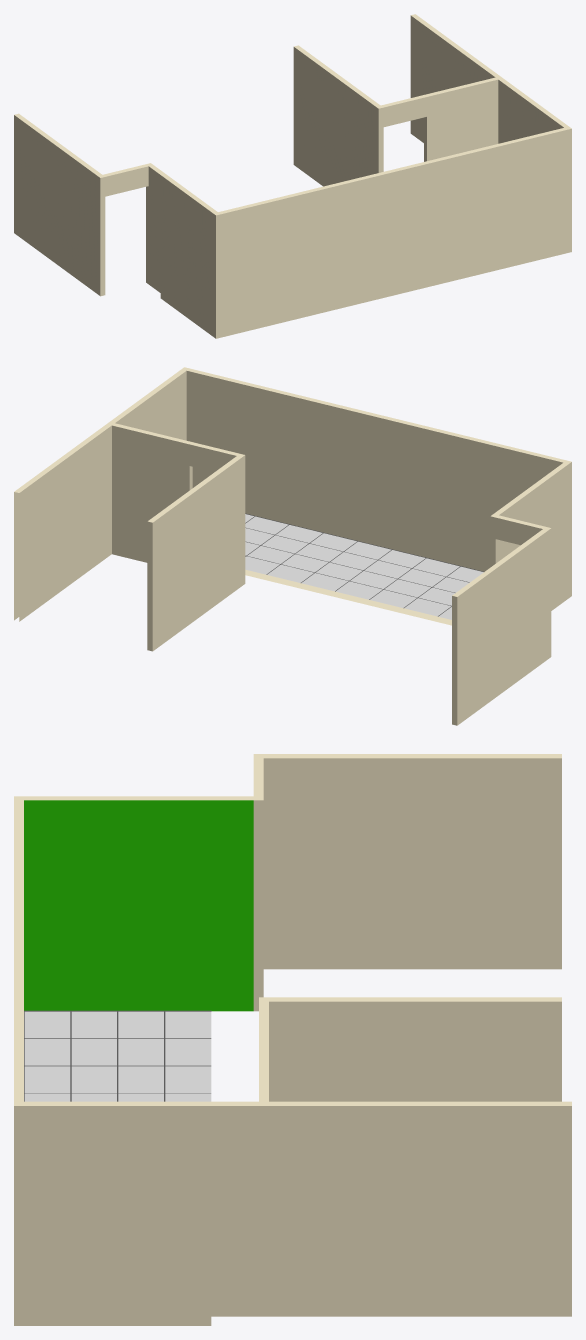
Rendered from Salle_B.fbx.
3 views of the same model, one above another, from view 1: azimuth 30°, elevation 25°; view 2: azimuth 150°, elevation 25°; view 3: azimuth 270°, elevation 25° (orthographic). The views are drawn at different scales.
Parts seen in each view (by area): view 1: Salle_B; view 2: Salle_B; view 3: Salle_B.
Part boxes in pixels (x1,y1,x2,y2): Salle_B: (14,14,571,338); Salle_B: (14,367,571,725); Salle_B: (14,754,571,1325).
Bounding box in the file's own units: 826 × 241 × 554.
